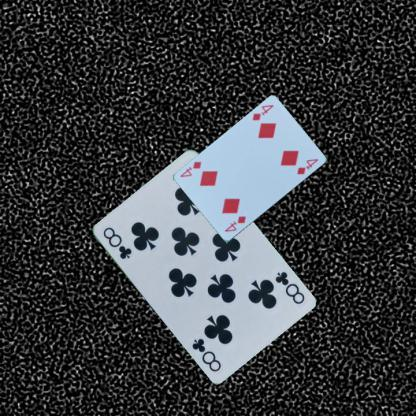4d: (250, 102, 275, 122), (222, 214, 247, 233)
8c: (272, 268, 306, 306), (100, 224, 133, 261)
